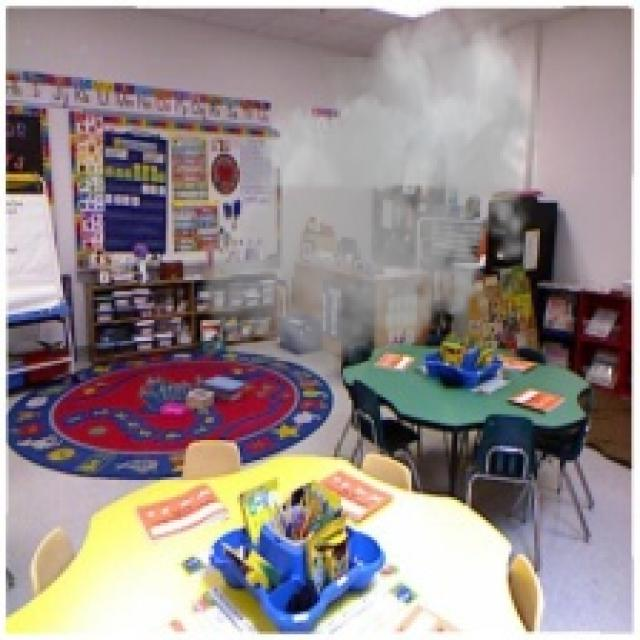smoke: (194, 3, 552, 391)
